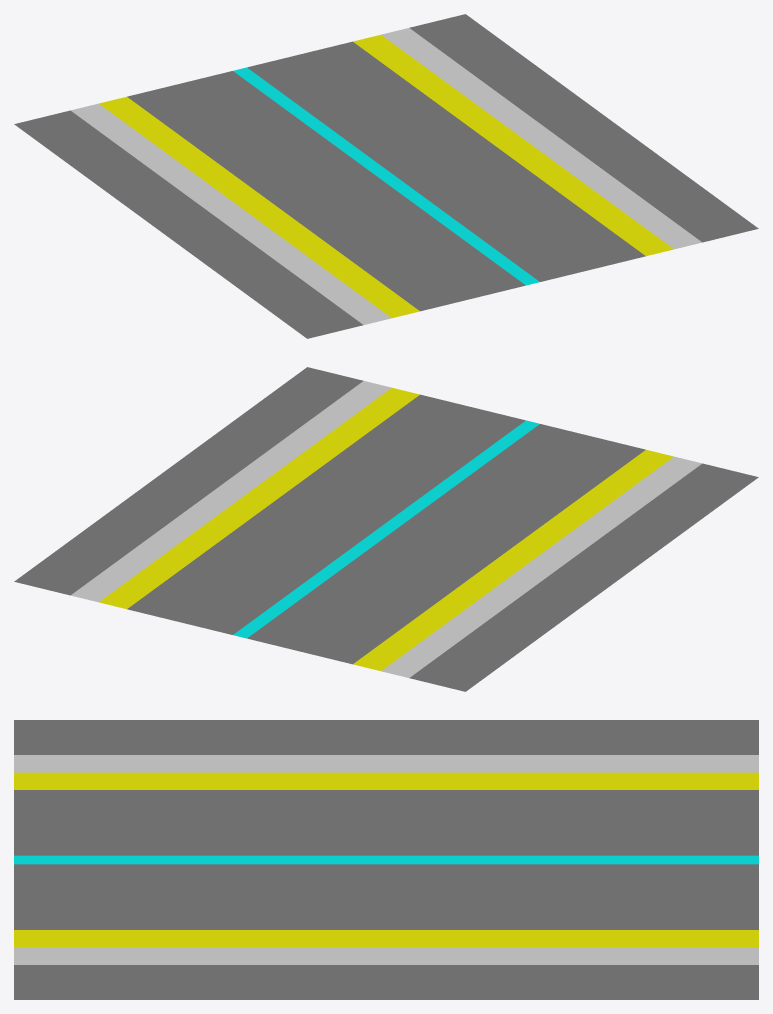
The model's file is road.fbx.
3 renders of one model, top to bottom at view 1: azimuth 30°, elevation 25°; view 2: azimuth 150°, elevation 25°; view 3: azimuth 270°, elevation 25°, orthographic. The views are drawn at different scales.
Visible parts, largest first — view 1: Road; view 2: Road; view 3: Road.
Part boxes in pixels (left/top/right/bottom): Road: left=14, top=14, right=758, bottom=338; Road: left=14, top=367, right=758, bottom=691; Road: left=14, top=720, right=758, bottom=999.
Bounding box in the file's own units: 16 × 0 × 18.
